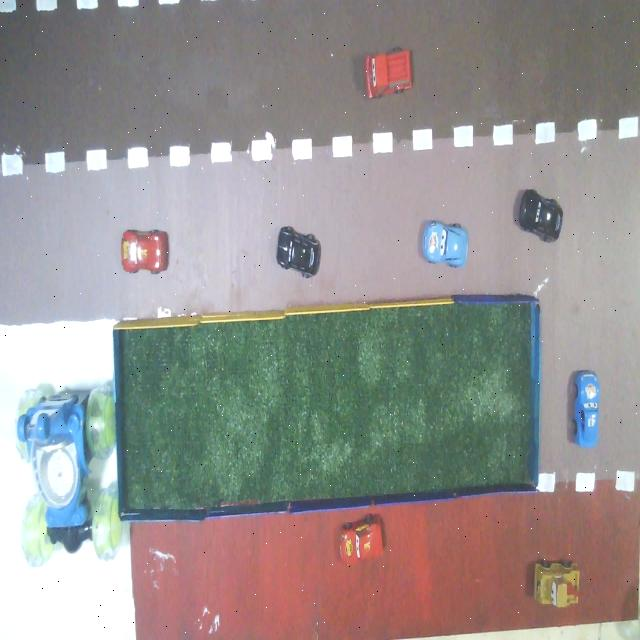driver car f: (15, 383, 121, 567)
small cars: (365, 47, 412, 98), (519, 190, 563, 242), (277, 227, 320, 277), (422, 222, 468, 267), (340, 515, 382, 564), (121, 230, 168, 273), (574, 371, 599, 447)
